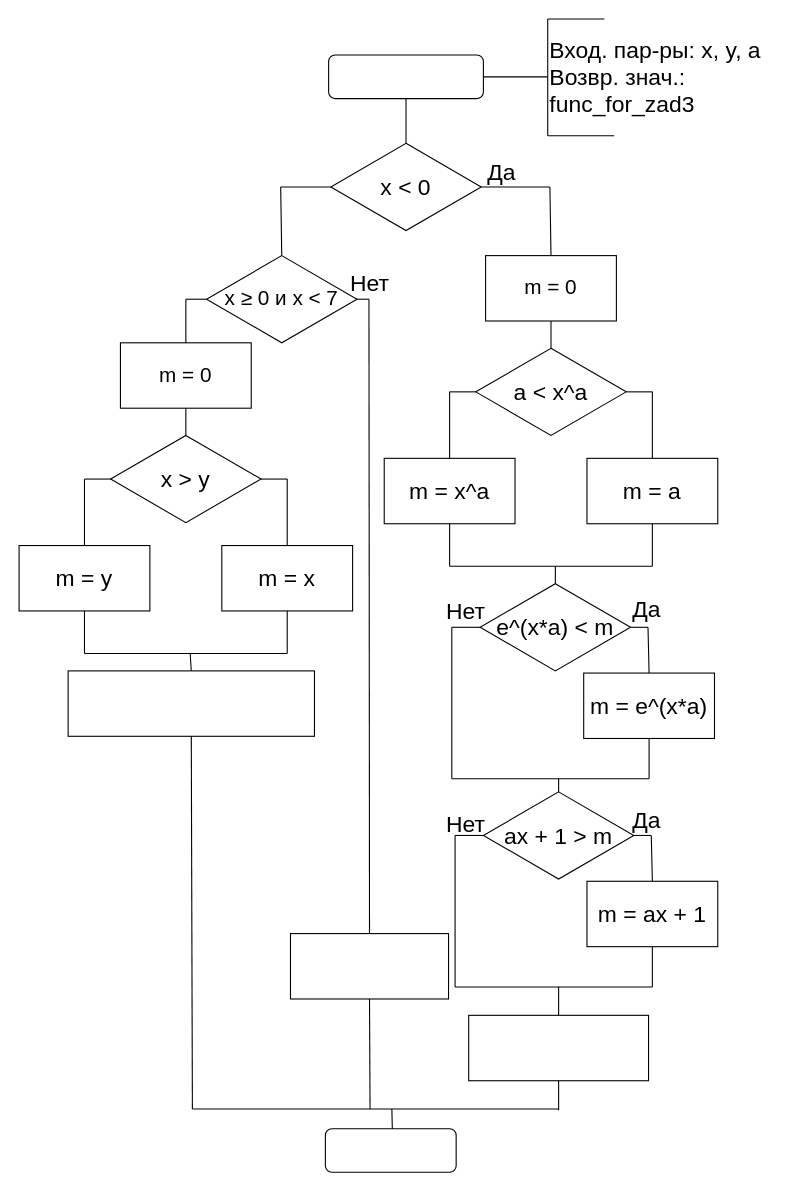
Some shapes in this 788 by 1191 pixel diagram are drawn without their labels. Each missing label, with the centre of its shape:
func_for_zad3: (405,76)
func_for_zad3 = 1 + 3 * cos|x+y|: (369,965)
func_for_zad3 = cos(x)^2 + sin(x^2)*m: (190,703)
func_for_zad3 = m: (558,1047)
Конец: (390,1150)
